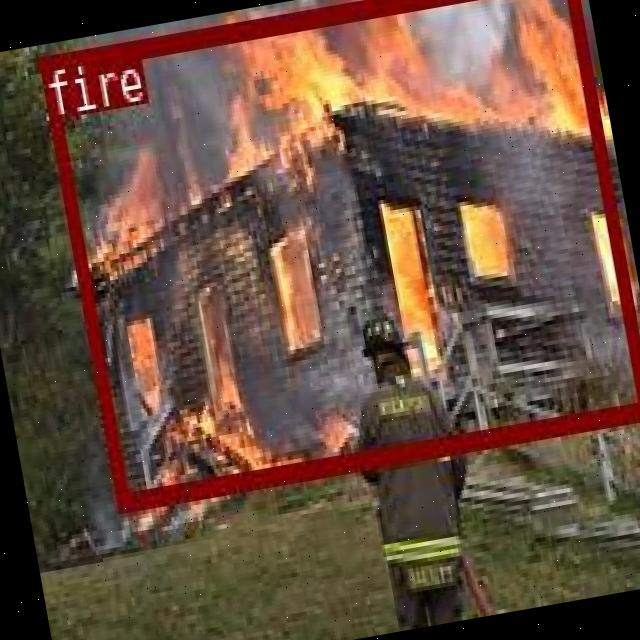fire: (37, 0, 640, 507)
